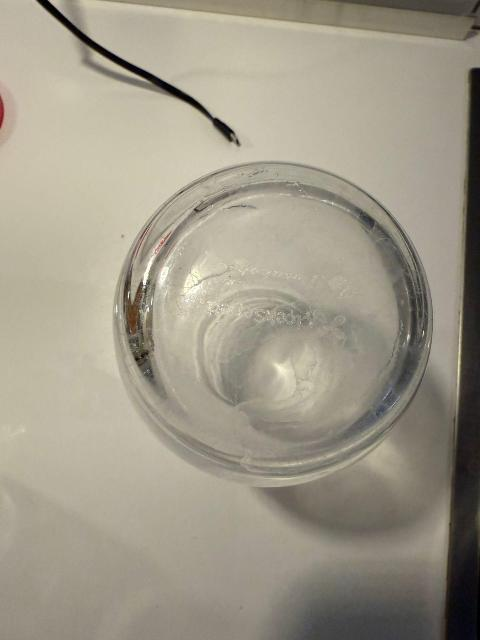Cam: (95, 160, 469, 500)
